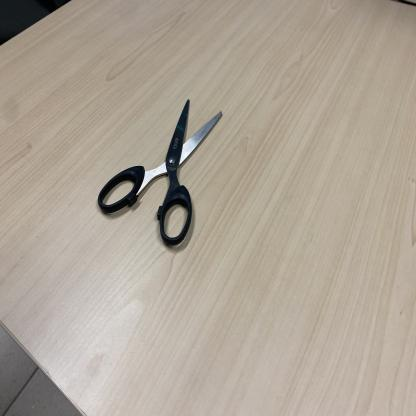scissors: (98, 94, 223, 254)
